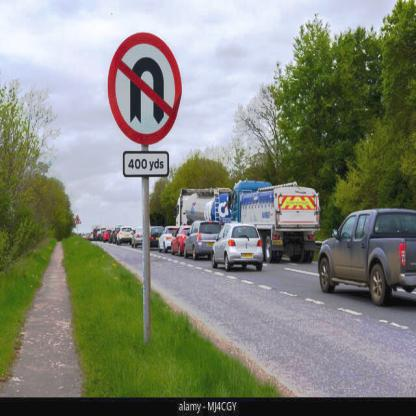No U-turn: (104, 22, 184, 148)
